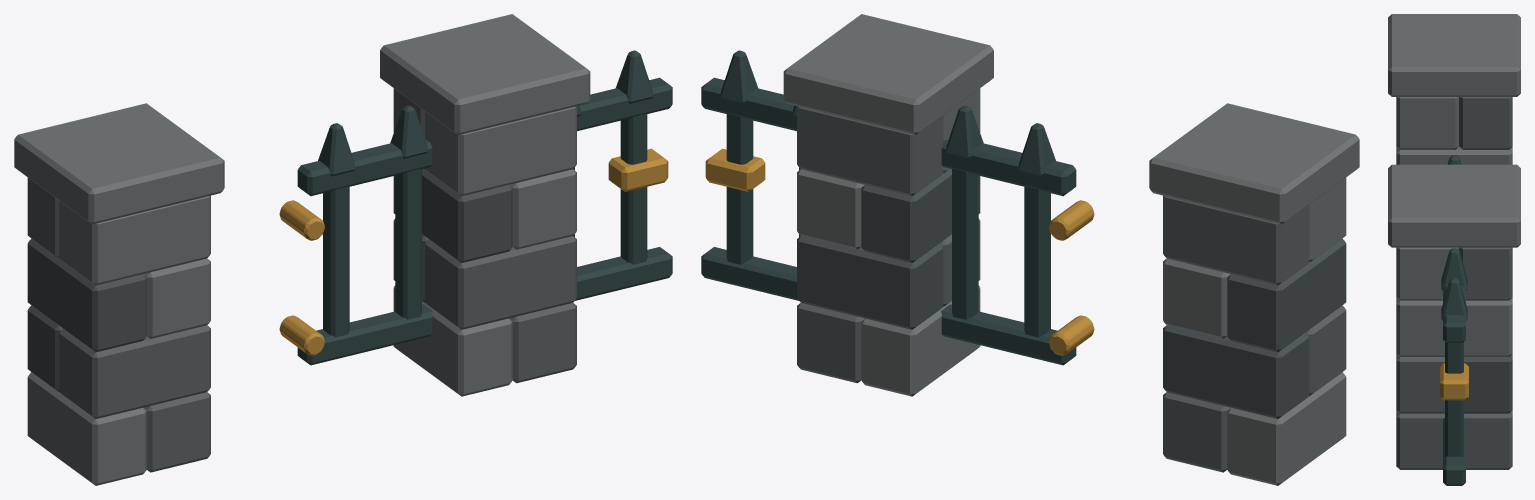
The model's file is StoneFenceGate.glb.
The picture shows the model from 3 angles, left to right: view 1: azimuth 30°, elevation 25°; view 2: azimuth 150°, elevation 25°; view 3: azimuth 270°, elevation 25°; orthographic projection. The views are drawn at different scales.
Parts seen in each view (by area): view 1: StoneFenceGate_Posts, StoneFenceGate_Leaf; view 2: StoneFenceGate_Posts, StoneFenceGate_Leaf; view 3: StoneFenceGate_Posts, StoneFenceGate_Leaf.
Part boxes in pixels (x1,y1,x2,y2): StoneFenceGate_Posts: (14, 14, 590, 485); StoneFenceGate_Leaf: (279, 50, 672, 365); StoneFenceGate_Posts: (783, 14, 1359, 485); StoneFenceGate_Leaf: (701, 50, 1094, 365); StoneFenceGate_Posts: (1388, 14, 1520, 469); StoneFenceGate_Leaf: (1440, 155, 1468, 485).
Bounding box in the file's own units: 1.45 × 0.68 × 0.32.
